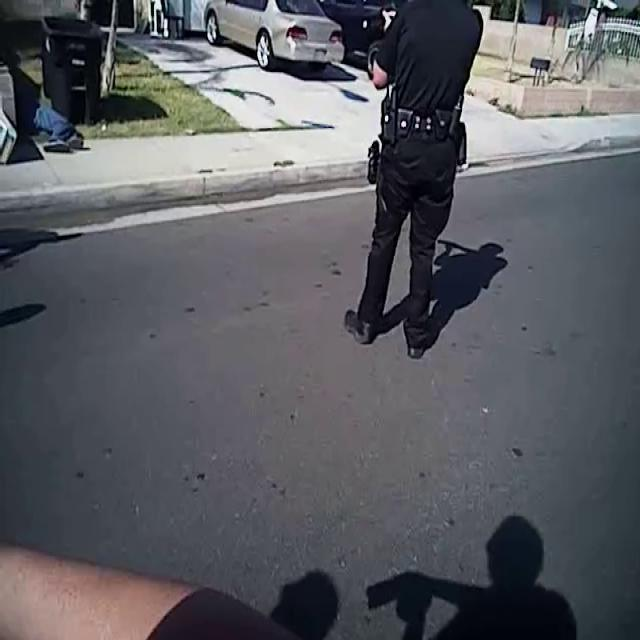gun: (363, 0, 399, 36)
